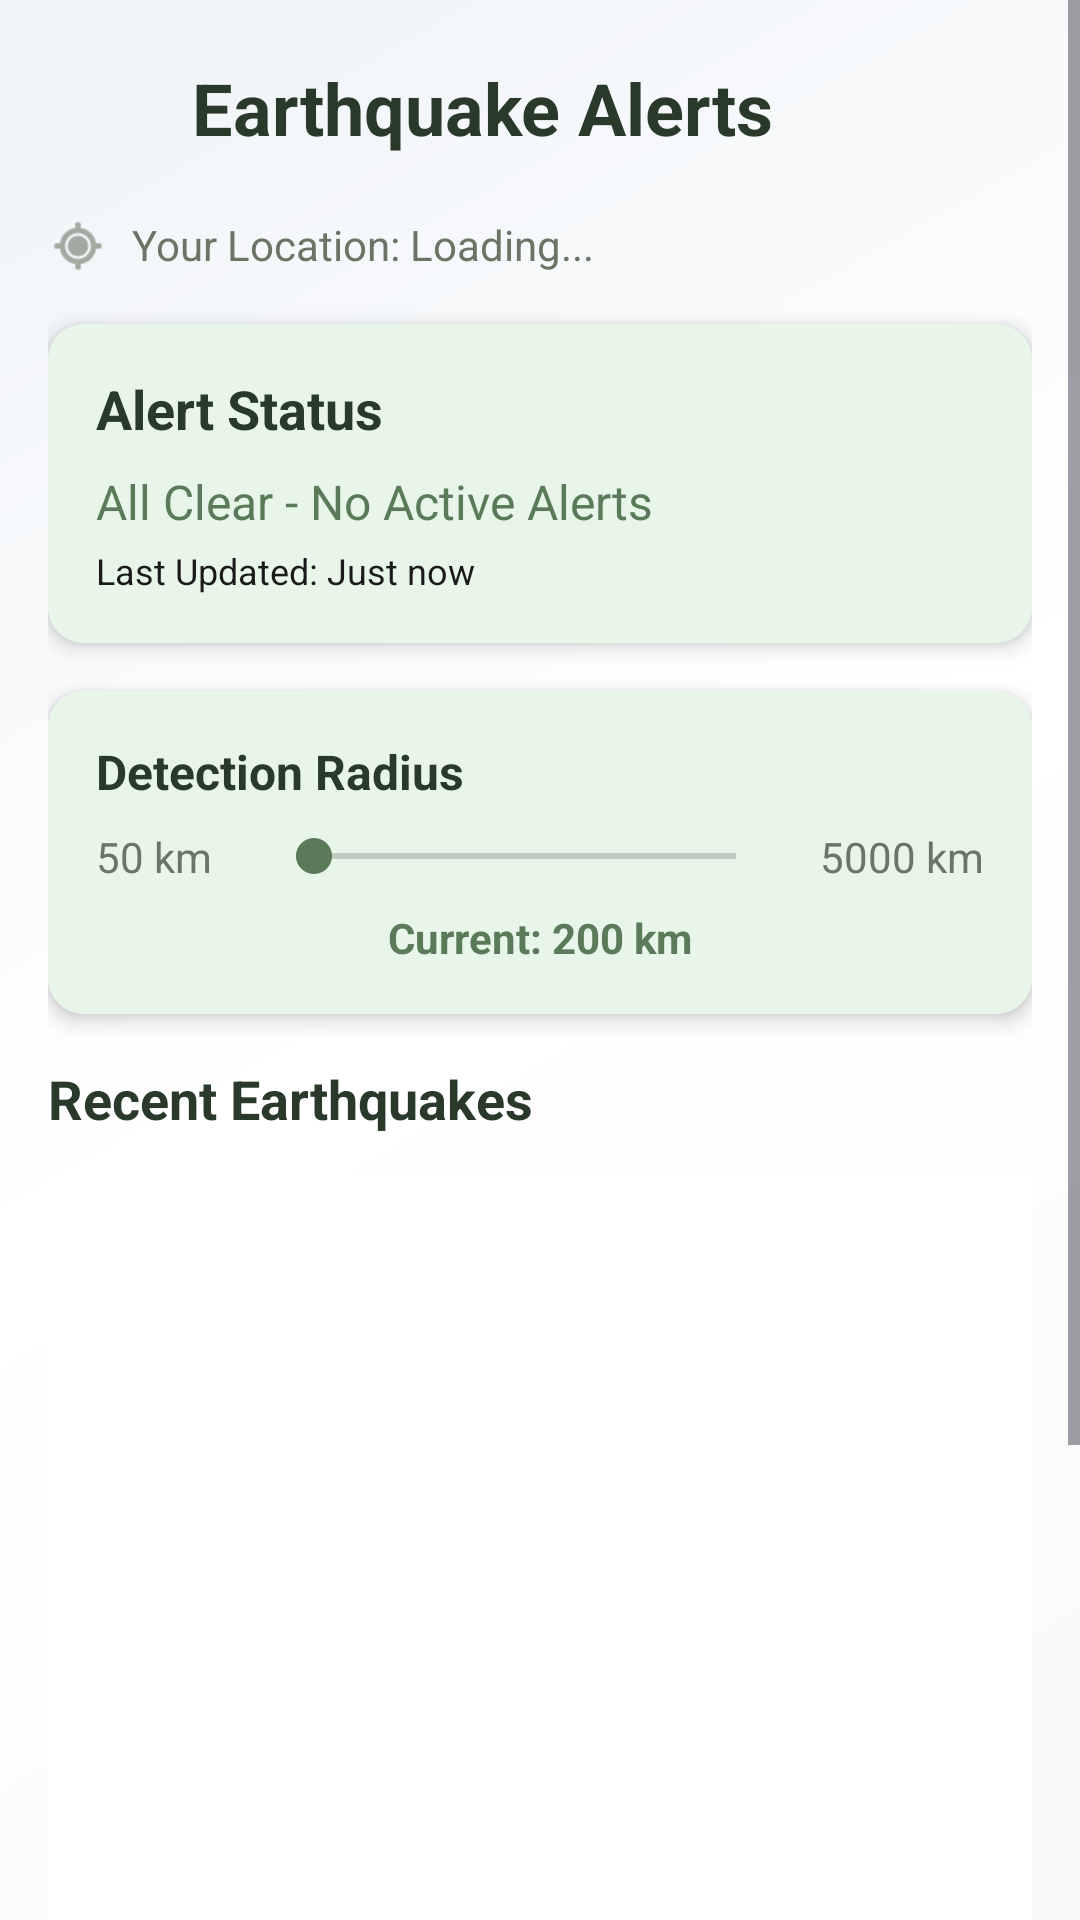

Icons on this 1080x1920 Android screen, each with the point to tap as (x,y):
mylocation: (78,246)
